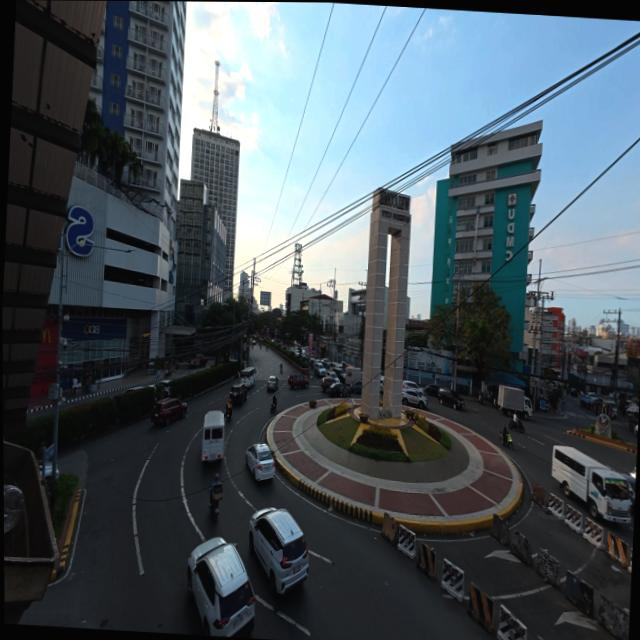car: (186, 538, 254, 637), (248, 507, 308, 593), (245, 444, 274, 480), (151, 398, 185, 425), (437, 388, 463, 409), (401, 388, 426, 409), (625, 468, 635, 515), (328, 381, 351, 399), (229, 383, 246, 406), (36, 460, 51, 486), (595, 400, 616, 417), (288, 374, 308, 389), (321, 376, 338, 392), (188, 354, 208, 367), (333, 367, 347, 384), (578, 395, 595, 409), (348, 381, 362, 396), (158, 379, 171, 395), (424, 384, 439, 397), (266, 376, 278, 392), (313, 362, 325, 377), (325, 369, 338, 380), (321, 358, 330, 368), (587, 392, 598, 400), (379, 375, 383, 392), (341, 361, 347, 371), (309, 357, 314, 368), (633, 425, 637, 436), (293, 350, 299, 357)
motorcycle: (210, 484, 222, 521), (499, 432, 512, 449), (508, 420, 523, 433), (478, 392, 487, 405), (164, 367, 173, 378), (224, 407, 231, 420), (269, 402, 276, 413), (279, 364, 282, 374)
trucks: (497, 385, 531, 420)
vans: (550, 446, 630, 524), (201, 411, 224, 462), (240, 367, 255, 387), (345, 366, 361, 384)
